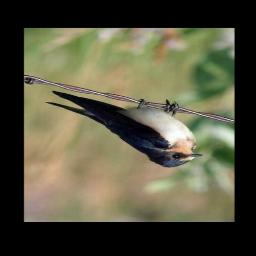Swallow: (45, 87, 205, 170)
